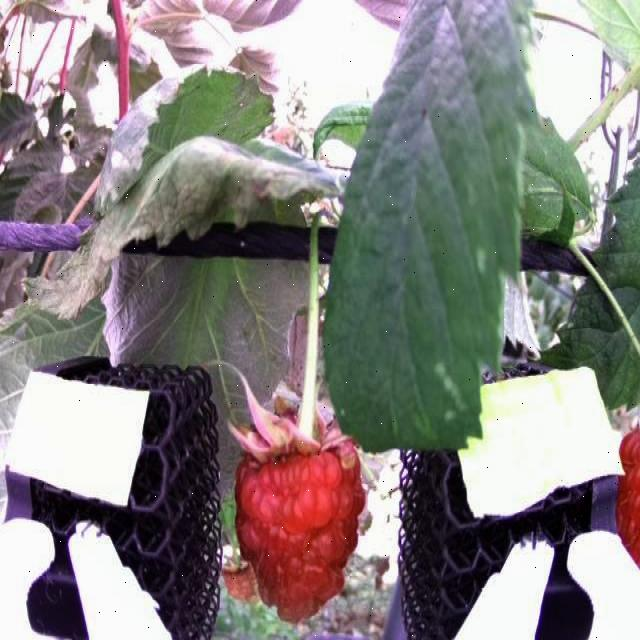Riped berries: (224, 389, 381, 615), (612, 412, 640, 562)
